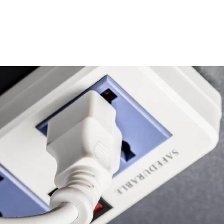three_eye_plug: (0, 19, 223, 224)
